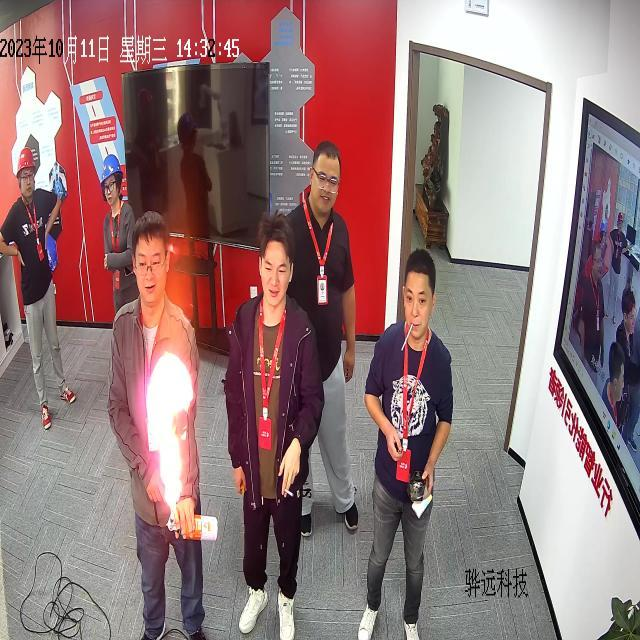Fire: (146, 352, 193, 516)
